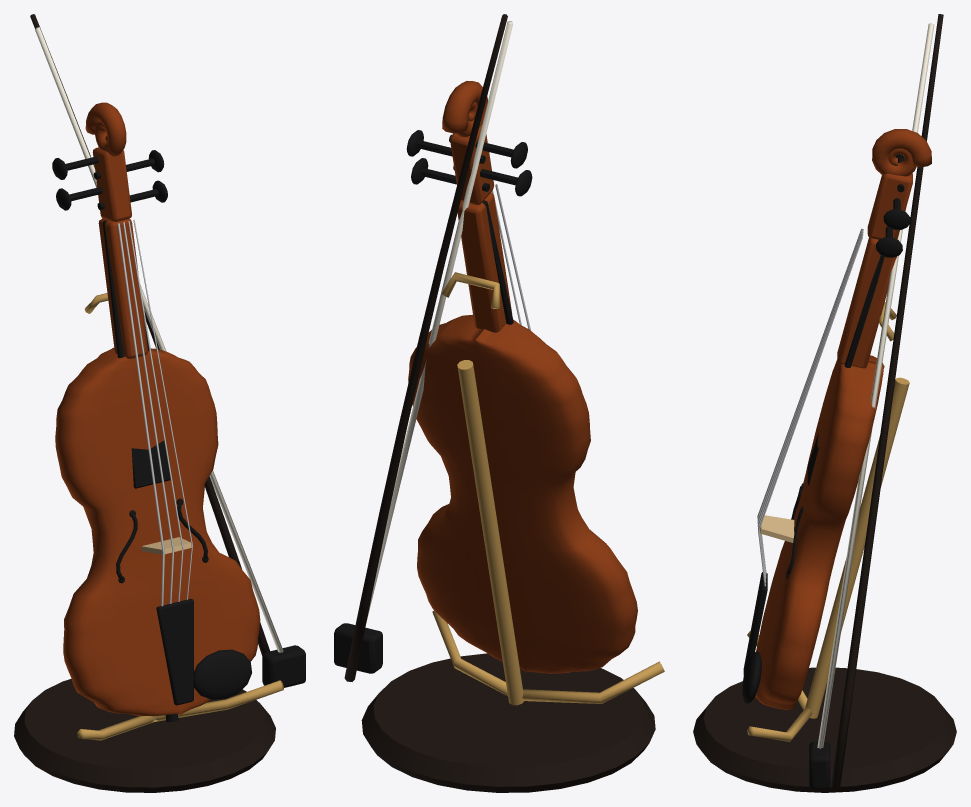
The model's file is violin.glb.
3 views of the same model, side by side, from view 1: azimuth 30°, elevation 25°; view 2: azimuth 150°, elevation 25°; view 3: azimuth 270°, elevation 25° (orthographic). The views are drawn at different scales.
Parts seen in each view (by area): view 1: violin_varnish, violin_stand, violin_ebony, violin_string, violin_hair, violin_brass, violin_maple; view 2: violin_varnish, violin_stand, violin_brass, violin_ebony, violin_hair, violin_string; view 3: violin_stand, violin_varnish, violin_ebony, violin_brass, violin_hair, violin_string, violin_maple.
Part boxes in pixels (x1,y1,x2,y2): violin_varnish: (55, 102, 260, 716); violin_stand: (14, 14, 275, 792); violin_ebony: (52, 150, 305, 721); violin_string: (117, 219, 192, 606); violin_hair: (35, 27, 283, 652); violin_brass: (77, 293, 284, 740); violin_maple: (141, 537, 191, 554); violin_varnish: (408, 81, 637, 673); violin_stand: (344, 14, 655, 792); violin_brass: (432, 272, 664, 705); violin_ebony: (334, 130, 532, 673); violin_hair: (366, 21, 512, 622); violin_string: (491, 184, 530, 330); violin_stand: (693, 14, 956, 792); violin_varnish: (755, 129, 931, 710); violin_ebony: (742, 154, 910, 789); violin_brass: (747, 302, 909, 741); violin_hair: (817, 23, 934, 748); violin_string: (757, 228, 863, 586); violin_maple: (760, 515, 794, 542).
Size of the model in its own units: 0.295 by 0.7308 by 0.25.
